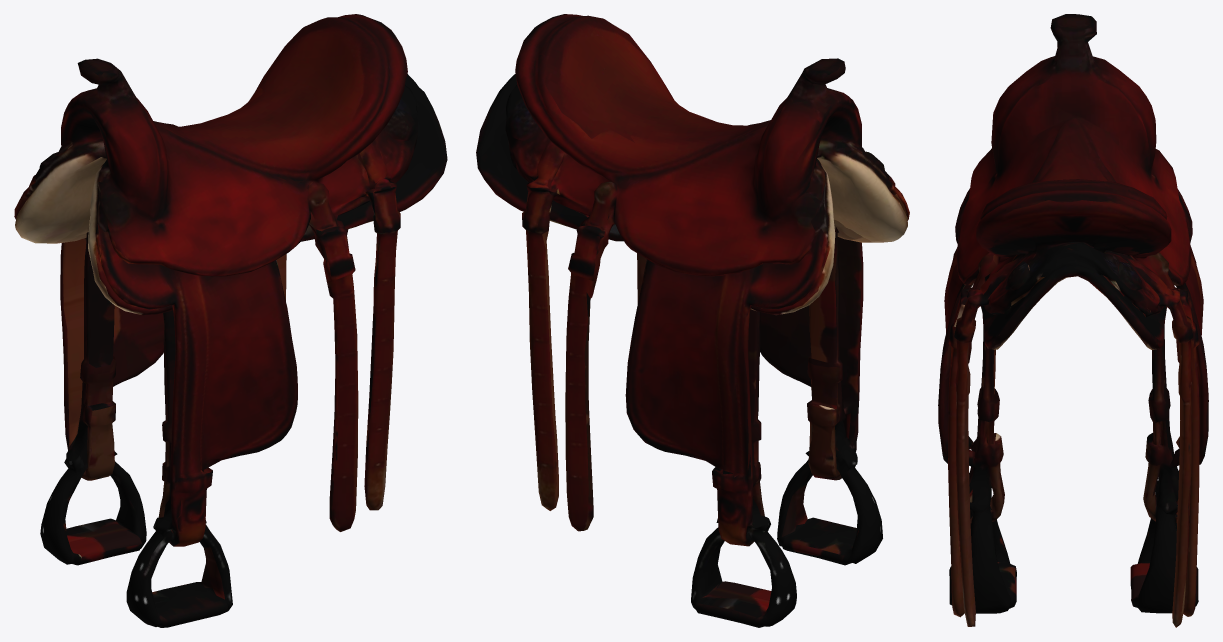
Rendered from saddle2_textured.glb.
3 views of the same model, side by side, from view 1: azimuth 30°, elevation 25°; view 2: azimuth 150°, elevation 25°; view 3: azimuth 270°, elevation 25° (orthographic). The views are drawn at different scales.
Parts seen in each view (by area): view 1: temp_mesh.ply; view 2: temp_mesh.ply; view 3: temp_mesh.ply.
Boxes of the visible parts, box(x1,y1,x2,y2) form: temp_mesh.ply: box(14, 14, 447, 627); temp_mesh.ply: box(476, 14, 909, 627); temp_mesh.ply: box(938, 14, 1208, 627).
Size of the model in its own units: 1.42 by 1.99 by 0.879.
1 material, 1 textured.
